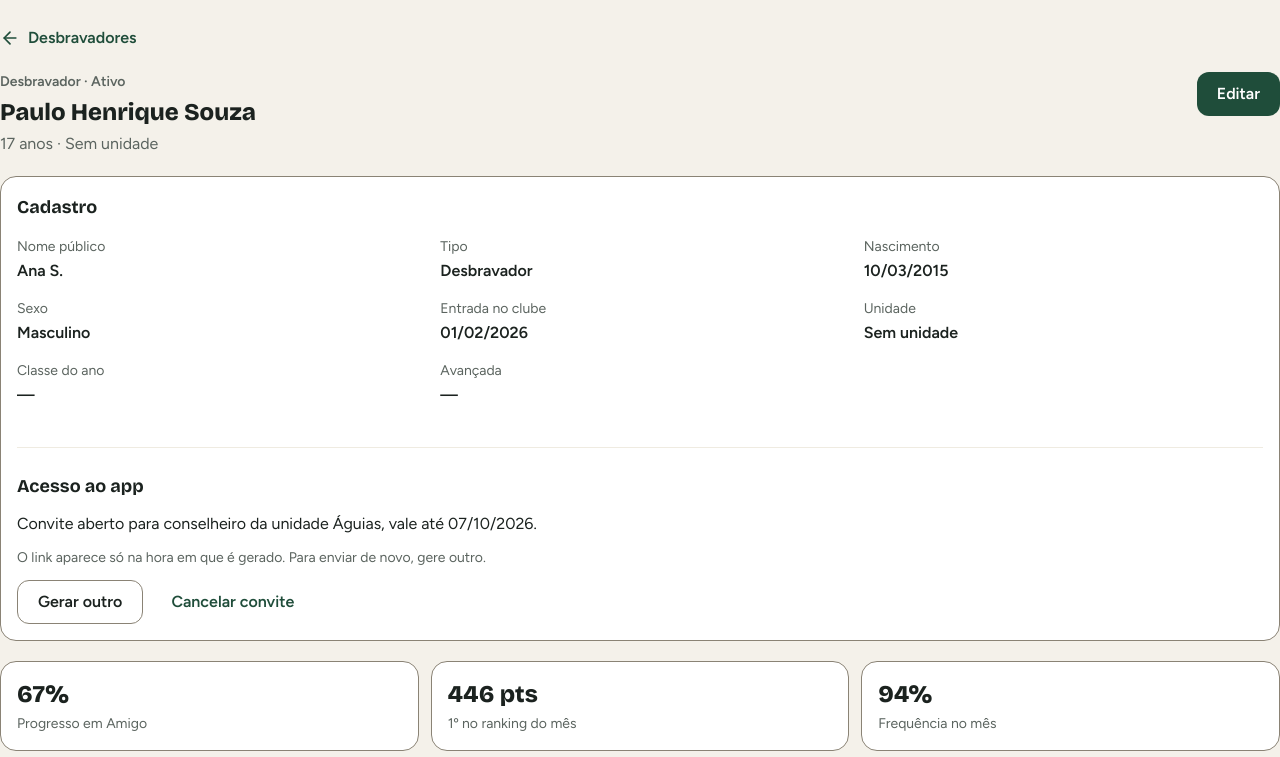
acesso ao app · convite aberto › mostra papel e validade, explica que o link só aparece ao gerar, e cancela com confirmação
Expected: the text "vale até 07/10/2026" is shown, [17,514,537,533]
Expected: the button "Gerar outro" is shown, [17,580,143,624]
Click the button "Cancelar convite" at (233, 602), box [151,580,314,624]
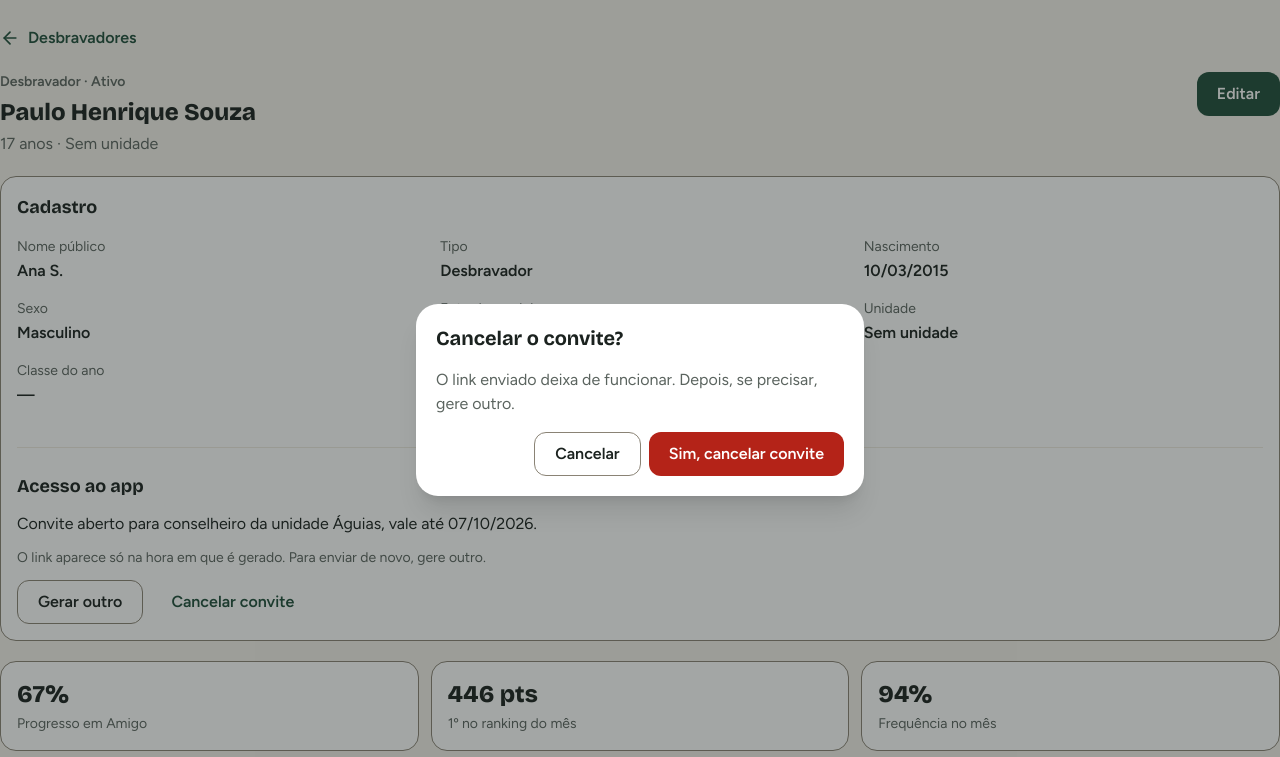
Click the button "Sim, cancelar convite" at (746, 454), box [649,432,844,476]
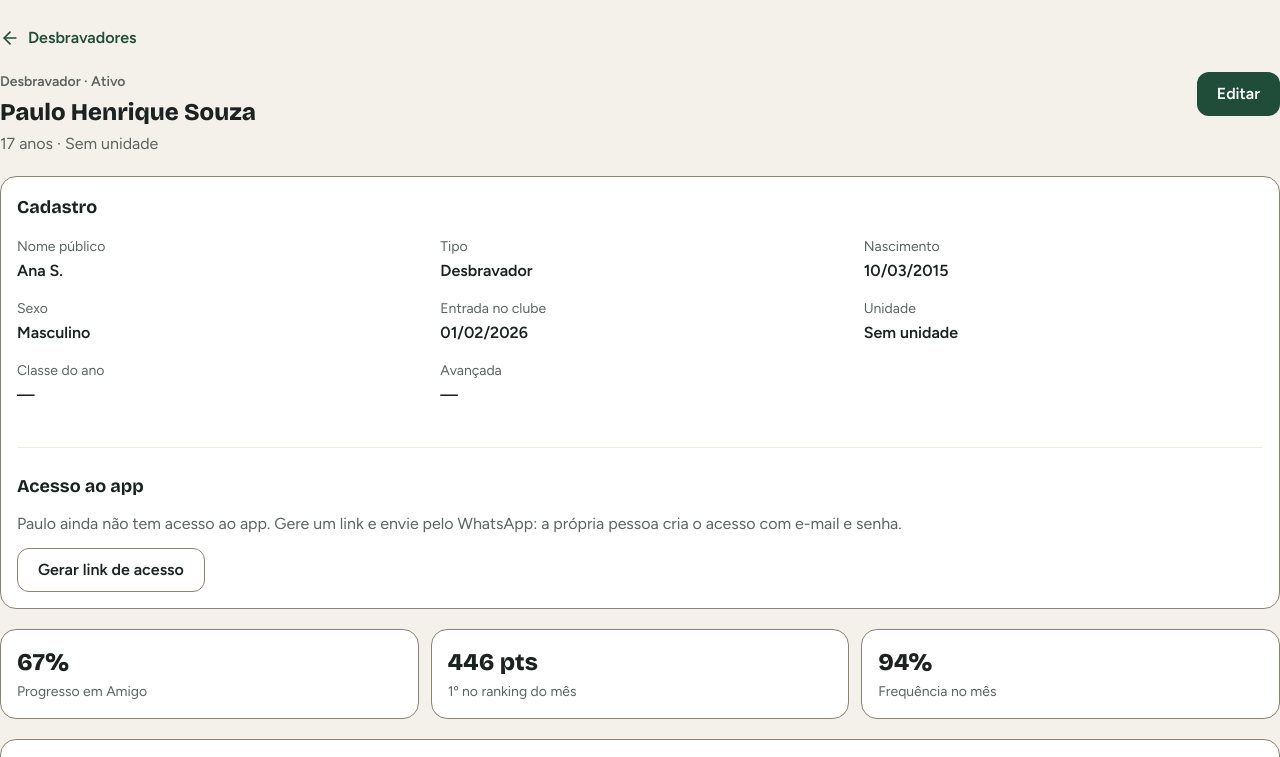
Expected: the button "Gerar link de acesso" is shown, [17,548,205,592]
